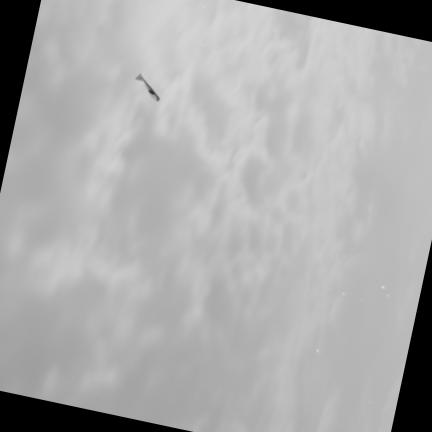Shahed: (135, 72, 160, 100)
